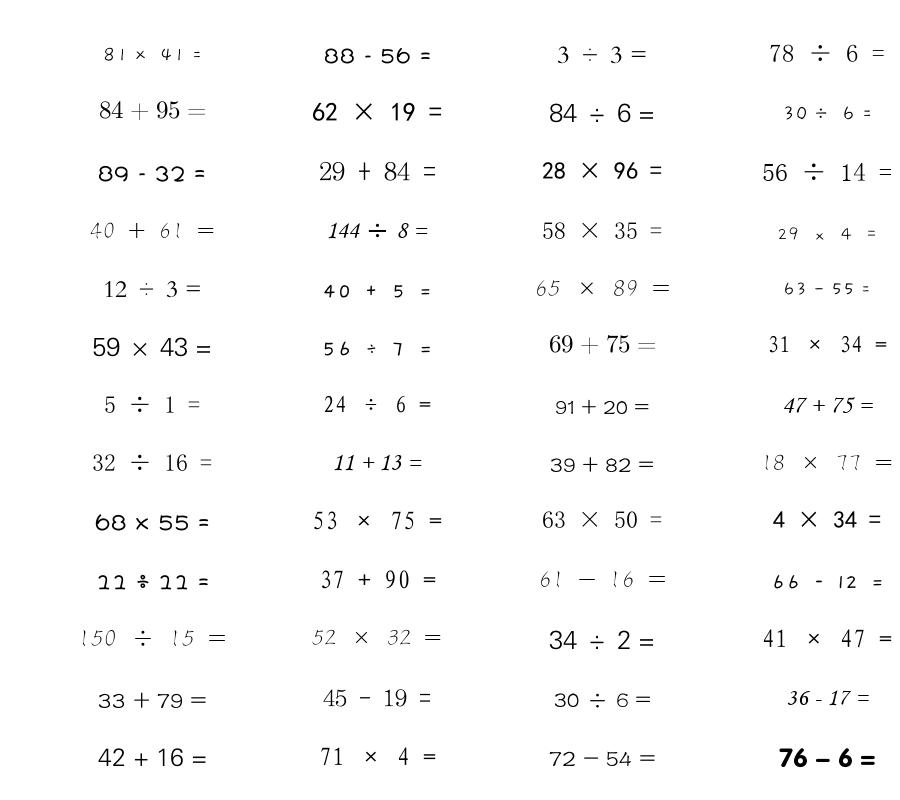MQ: (78, 630, 226, 647), (312, 102, 442, 121), (312, 511, 442, 530), (762, 629, 892, 648), (92, 337, 212, 357), (319, 161, 436, 181), (762, 163, 892, 181), (761, 454, 893, 471), (319, 570, 436, 589), (319, 747, 436, 766), (535, 280, 670, 296), (767, 335, 887, 353), (539, 571, 666, 588), (99, 101, 206, 121), (549, 335, 656, 355), (90, 222, 215, 239), (549, 103, 655, 123), (549, 630, 655, 650), (769, 44, 885, 62), (312, 629, 442, 645), (98, 748, 207, 767), (542, 162, 662, 179), (542, 222, 662, 239), (92, 454, 212, 471), (542, 511, 662, 528), (95, 514, 210, 531), (323, 395, 431, 413), (323, 689, 431, 707), (779, 748, 876, 768), (98, 692, 207, 709), (98, 165, 206, 182), (773, 511, 881, 528), (324, 47, 431, 64), (96, 574, 209, 590), (550, 456, 654, 473), (326, 222, 428, 239), (549, 751, 656, 767), (103, 281, 202, 298), (321, 341, 433, 356), (104, 396, 200, 413), (557, 46, 647, 64), (771, 575, 884, 589), (322, 284, 432, 298), (332, 454, 422, 471), (555, 399, 649, 415), (103, 47, 202, 62), (782, 397, 873, 413), (554, 693, 651, 708), (777, 227, 878, 241), (782, 106, 872, 121), (786, 690, 869, 706), (783, 282, 871, 296)
